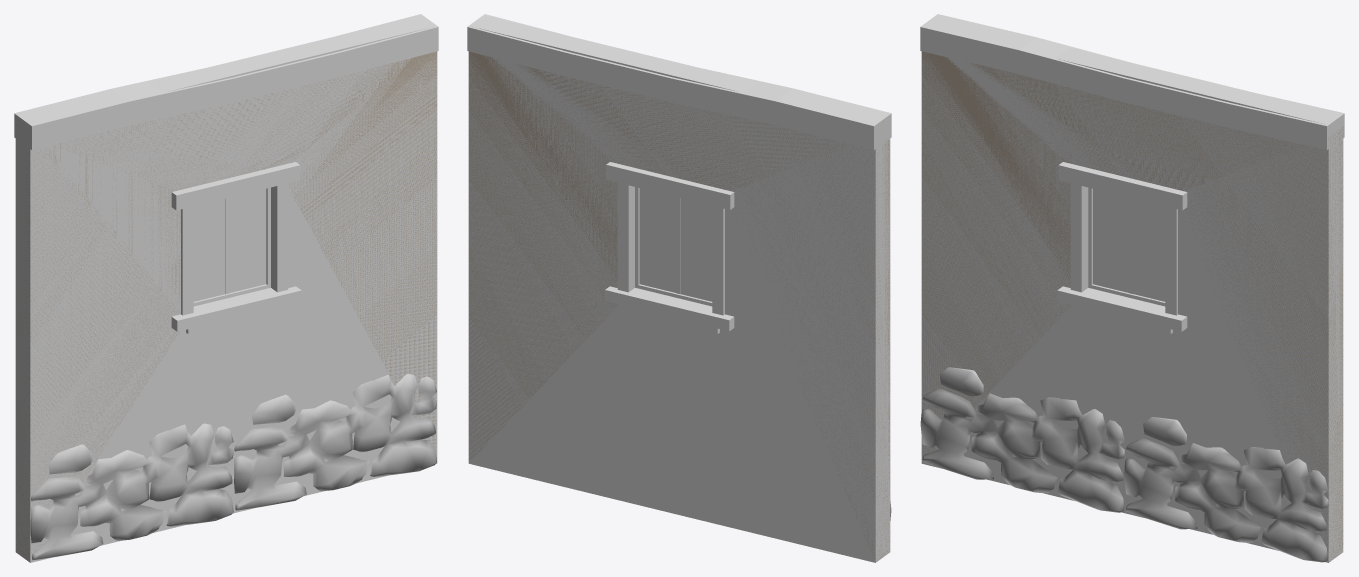
File: Foundation_Window_1_2X.fbx
3 views of the same model, side by side, from view 1: azimuth 30°, elevation 25°; view 2: azimuth 150°, elevation 25°; view 3: azimuth 330°, elevation 25° (orthographic).
Visible parts, largest first — view 1: Foundation_Window_1_2X_COL0, Foundation_Window_1_2X_LOD0; view 2: Foundation_Window_1_2X_COL0, Foundation_Window_1_2X_LOD0; view 3: Foundation_Window_1_2X_COL0, Foundation_Window_1_2X_LOD0.
Part boxes in pixels (x1=…): Foundation_Window_1_2X_COL0: x1=15, y1=15, x2=437, y2=562; Foundation_Window_1_2X_LOD0: x1=14, y1=14, x2=438, y2=562; Foundation_Window_1_2X_COL0: x1=468, y1=15, x2=890, y2=562; Foundation_Window_1_2X_LOD0: x1=467, y1=14, x2=891, y2=561; Foundation_Window_1_2X_COL0: x1=921, y1=47, x2=1343, y2=562; Foundation_Window_1_2X_LOD0: x1=920, y1=14, x2=1344, y2=562.
Size of what is drawn, in the model's own units: 400 by 412 by 43.14.
